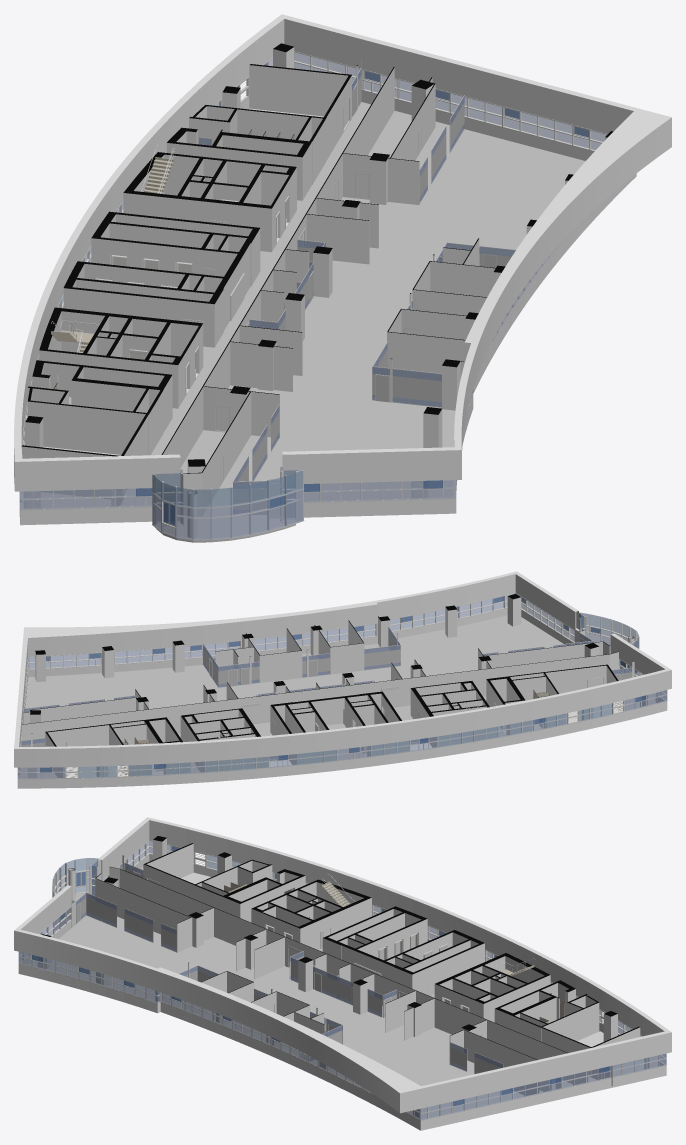
3 renders of one model, top to bottom at view 1: azimuth 30°, elevation 25°; view 2: azimuth 150°, elevation 25°; view 3: azimuth 270°, elevation 25°, orthographic. The views are drawn at different scales.
Visible parts, largest first — view 1: A1-6F-Wall, A1-6F-Floor, A1-6F-In Dry Wall, A1-6F-Dry Wall, A1-6F-Glass1, A1-6F-Column, A1-6F-Glass Wall, A1-6F-Frame, A1-6F-Door, A1-6F-Glass2, A1-6F-Elevator, A1-6F-Stairs (+1 smaller); view 2: A1-6F-Wall, A1-6F-In Dry Wall, A1-6F-Dry Wall, A1-6F-Floor, A1-6F-Glass1, A1-6F-Frame, A1-6F-Glass2, A1-6F-Column, A1-6F-Glass Wall, A1-6F-Door, A1-6F-Glass3, A1-6F-Vent; view 3: A1-6F-Wall, A1-6F-In Dry Wall, A1-6F-Dry Wall, A1-6F-Floor, A1-6F-Glass1, A1-6F-Glass Wall, A1-6F-Frame, A1-6F-Column, A1-6F-Door, A1-6F-Glass2, A1-6F-Glass3, A1-6F-Elevator (+1 smaller).
Part boxes in pixels (left/top/right/bottom): A1-6F-Wall: left=21, top=58, right=495, bottom=516; A1-6F-Floor: left=22, top=102, right=585, bottom=542; A1-6F-In Dry Wall: left=19, top=17, right=636, bottom=525; A1-6F-Dry Wall: left=14, top=14, right=671, bottom=491; A1-6F-Glass1: left=19, top=52, right=606, bottom=539; A1-6F-Column: left=24, top=43, right=613, bottom=537; A1-6F-Glass Wall: left=113, top=68, right=515, bottom=518; A1-6F-Frame: left=19, top=51, right=607, bottom=540; A1-6F-Door: left=118, top=83, right=497, bottom=514; A1-6F-Glass2: left=62, top=100, right=303, bottom=507; A1-6F-Elevator: left=95, top=195, right=289, bottom=394; A1-6F-Stairs: left=51, top=145, right=175, bottom=353; A1-6F-Wall: left=22, top=616, right=634, bottom=777; A1-6F-In Dry Wall: left=17, top=573, right=667, bottom=788; A1-6F-Dry Wall: left=14, top=571, right=671, bottom=767; A1-6F-Floor: left=20, top=615, right=641, bottom=777; A1-6F-Glass1: left=17, top=593, right=667, bottom=778; A1-6F-Frame: left=17, top=592, right=667, bottom=779; A1-6F-Glass2: left=78, top=612, right=639, bottom=778; A1-6F-Column: left=27, top=594, right=655, bottom=777; A1-6F-Glass Wall: left=21, top=626, right=632, bottom=746; A1-6F-Door: left=32, top=638, right=620, bottom=764; A1-6F-Glass3: left=40, top=596, right=646, bottom=772; A1-6F-Vent: left=65, top=700, right=623, bottom=778; A1-6F-Wall: left=95, top=843, right=640, bottom=1091; A1-6F-In Dry Wall: left=18, top=819, right=666, bottom=1130; A1-6F-Dry Wall: left=14, top=817, right=671, bottom=1113; A1-6F-Floor: left=29, top=867, right=643, bottom=1117; A1-6F-Glass1: left=18, top=841, right=666, bottom=1120; A1-6F-Glass Wall: left=68, top=862, right=609, bottom=1095; A1-6F-Frame: left=18, top=840, right=666, bottom=1120; A1-6F-Column: left=38, top=836, right=657, bottom=1119; A1-6F-Door: left=76, top=871, right=601, bottom=1079; A1-6F-Glass2: left=52, top=855, right=631, bottom=1033; A1-6F-Glass3: left=32, top=845, right=610, bottom=1106; A1-6F-Elevator: left=266, top=925, right=487, bottom=1011.
Bounding box in the file's own units: 71.25 × 5.28 × 71.71.
